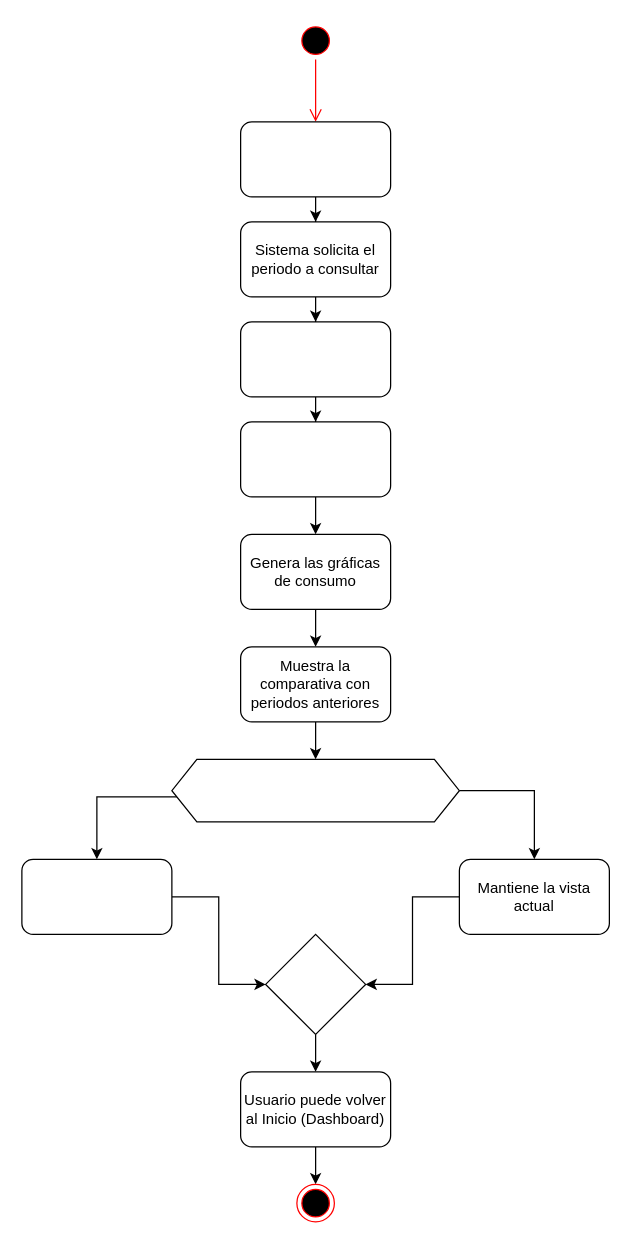
Some shapes in this 631 by 1244 pixel diagram are drawn without their labels. Here are the shapes that lost their labels. From the top down, the box of each, then its label:
(239, 121, 391, 197): Usuario abre la pestaña "Historial" del hogar
(239, 321, 391, 397): Usuario elige el filtro (día, semana, mes, año)
(239, 421, 391, 497): Sistema consulta el historial de consumo
